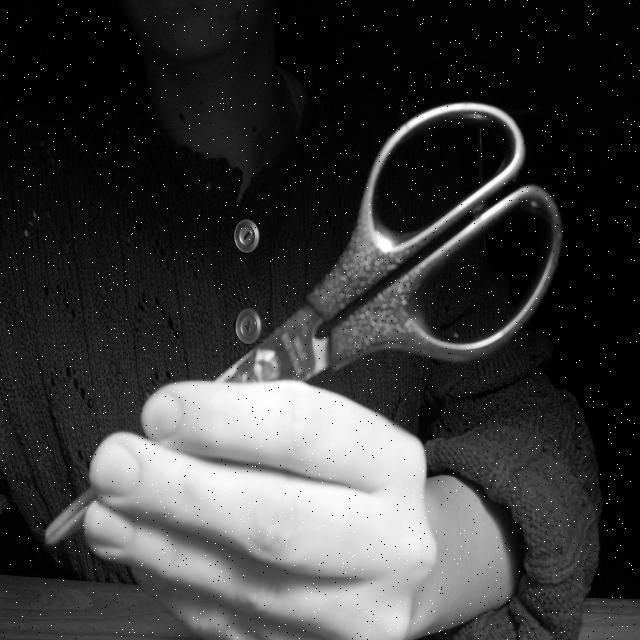scissors: (38, 94, 566, 557)
